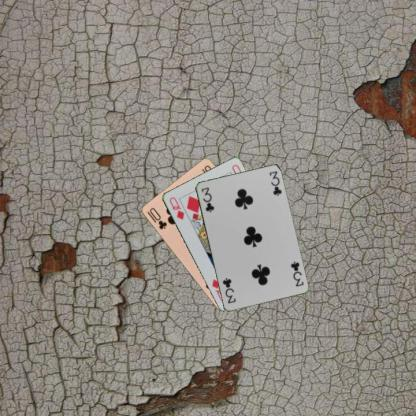10c: (147, 205, 168, 231)
3c: (198, 185, 216, 213), (288, 259, 304, 288)
Qd: (166, 194, 186, 221)
